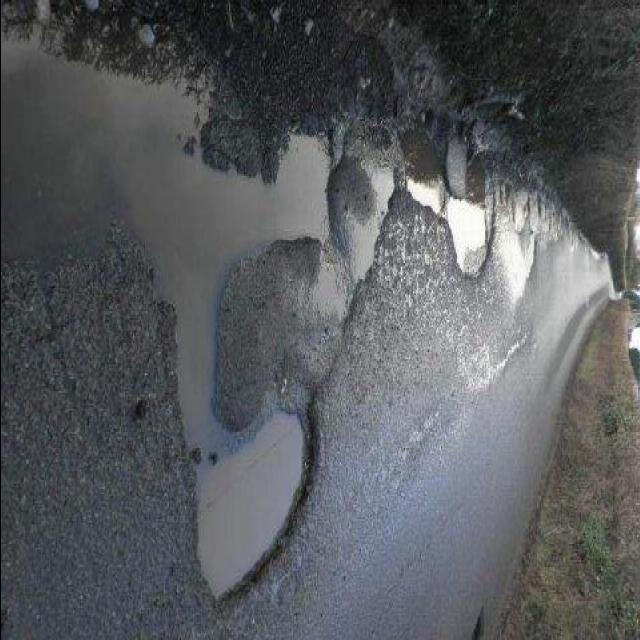jalan retak: (384, 368, 456, 491), (370, 532, 442, 636), (485, 321, 541, 387)
lubang: (11, 16, 387, 326), (184, 378, 332, 606), (143, 223, 297, 438), (286, 224, 364, 396), (389, 82, 454, 229), (506, 156, 588, 254), (446, 127, 494, 279), (490, 208, 546, 306), (565, 206, 605, 265), (457, 602, 499, 640)
